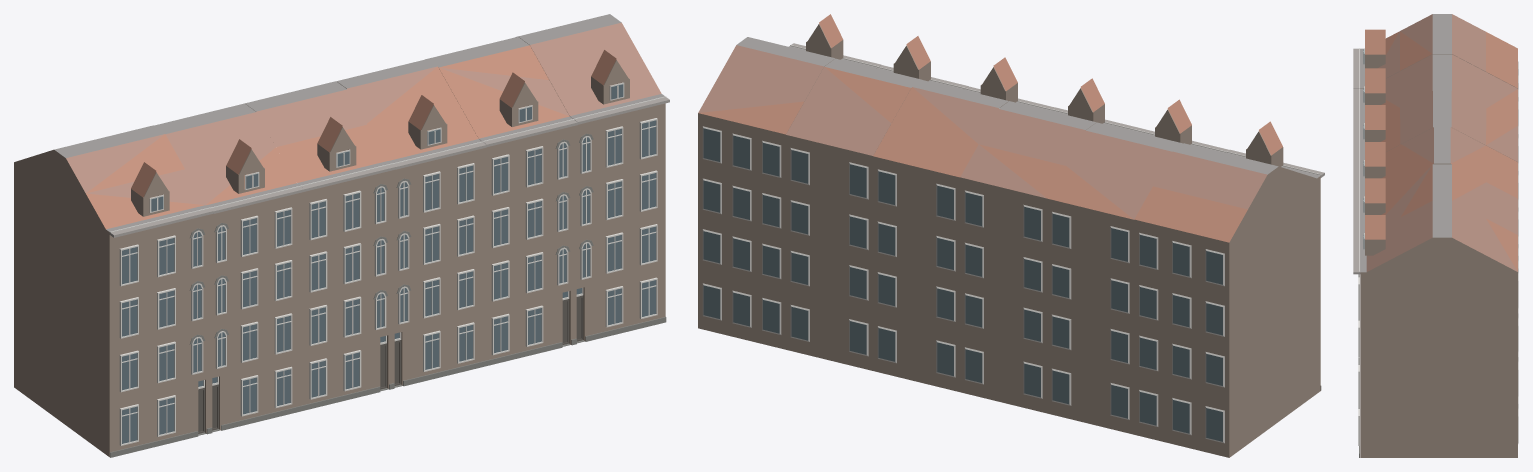
Rendered from chunk-face-soenda-2-36-r1.glb.
3 renders of one model, left to right at view 1: azimuth 30°, elevation 25°; view 2: azimuth 150°, elevation 25°; view 3: azimuth 270°, elevation 25°, orthographic. The views are drawn at different scales.
Visible parts, largest first — view 1: face-soenda-2-36-r1; view 2: face-soenda-2-36-r1; view 3: face-soenda-2-36-r1.
Boxes of the visible parts, x1=… form: face-soenda-2-36-r1: x1=14, y1=14, x2=669, y2=457; face-soenda-2-36-r1: x1=698, y1=14, x2=1324, y2=457; face-soenda-2-36-r1: x1=1353, y1=14, x2=1518, y2=457.
Bounding box in the file's own units: 33.55 × 15.7 × 10.49.
